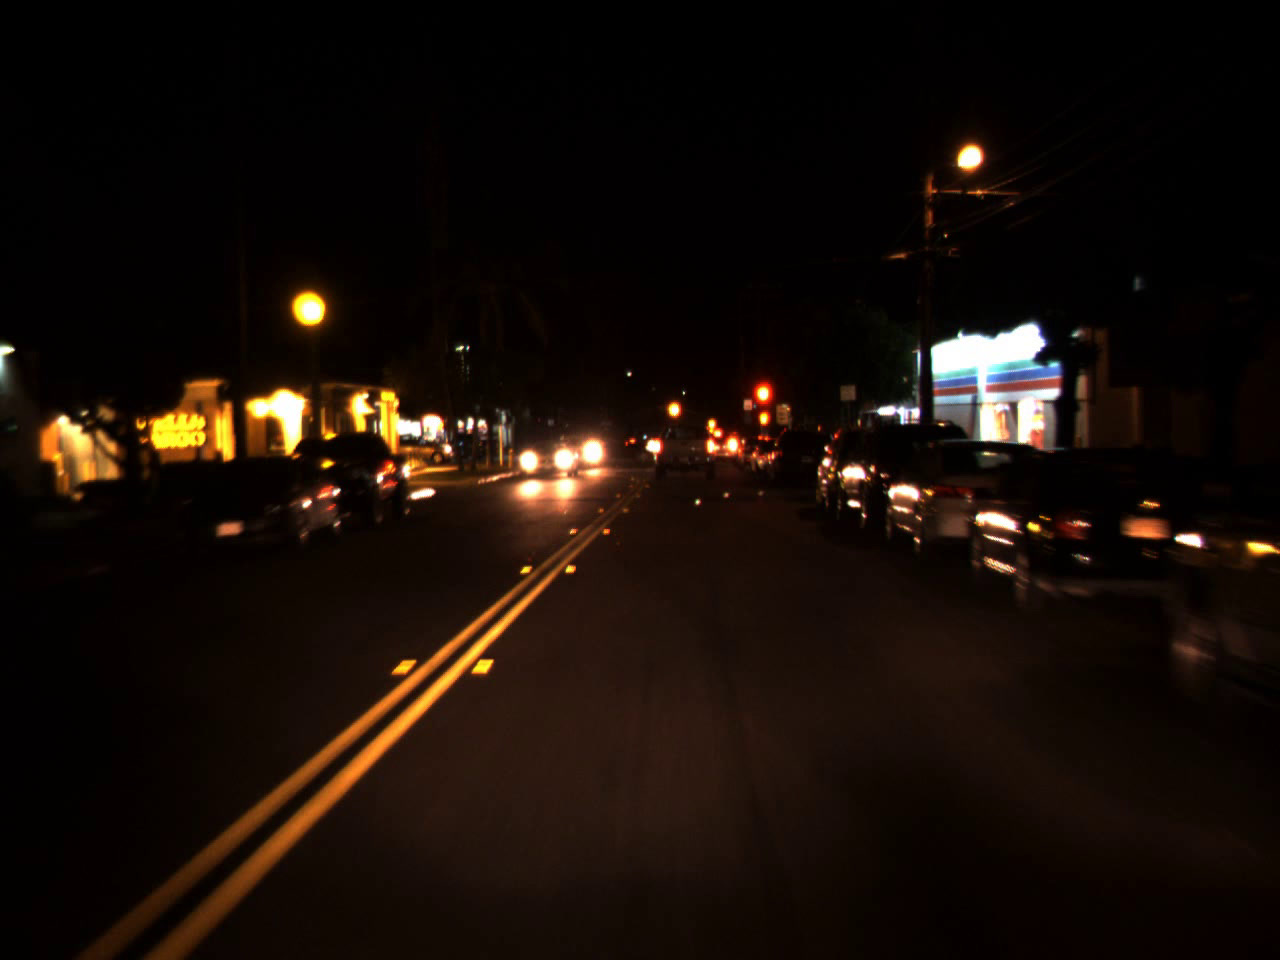stop: (749, 377, 776, 433)
warning: (666, 390, 684, 427), (706, 413, 718, 430)
